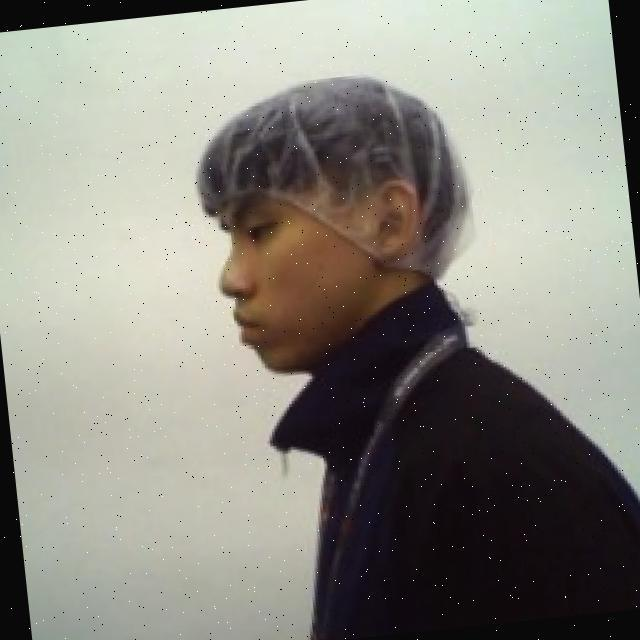gloves: (181, 55, 486, 302)
no_hairnet: (206, 170, 444, 383)
